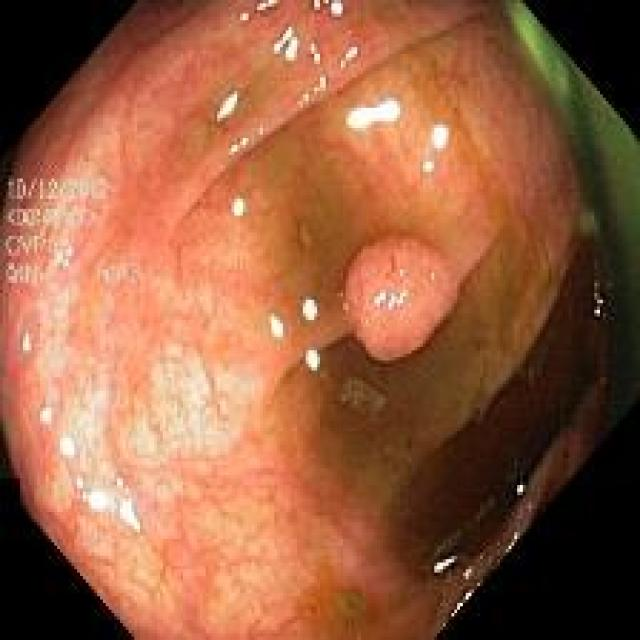Polyps: (345, 237, 459, 362)
